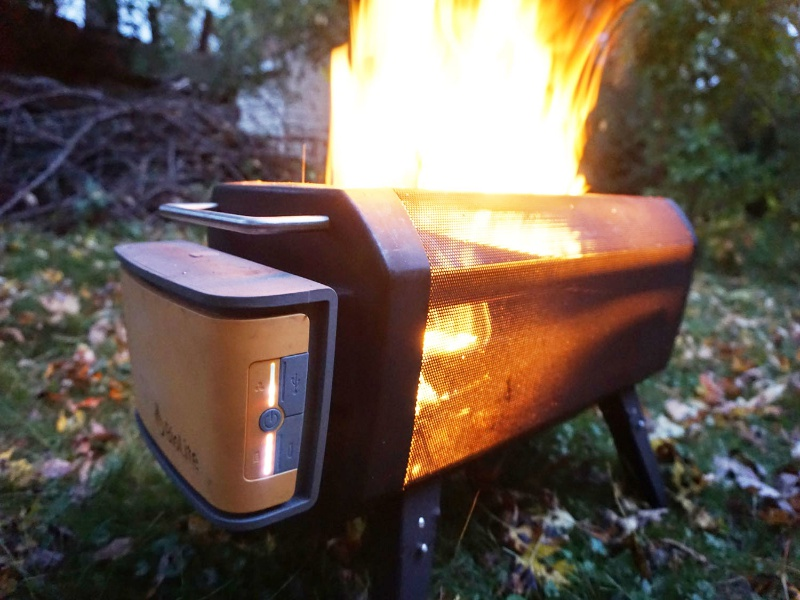fire: (330, 3, 595, 177)
